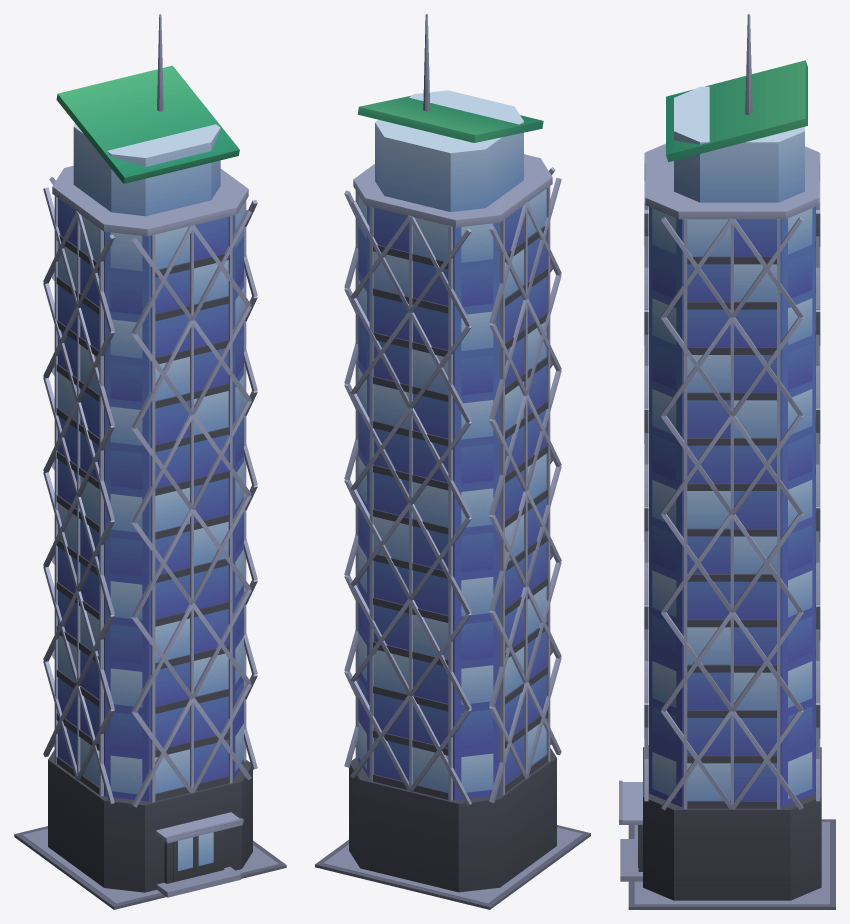
Rendered from off_diagrid_needle_1x1.glb.
3 renders of one model, left to right at view 1: azimuth 30°, elevation 25°; view 2: azimuth 150°, elevation 25°; view 3: azimuth 270°, elevation 25°, orthographic. The views are drawn at different scales.
Parts seen in each view (by area): view 1: off_diagrid_needle_1x1; view 2: off_diagrid_needle_1x1; view 3: off_diagrid_needle_1x1.
Part boxes in pixels (bbox=[...]): off_diagrid_needle_1x1: bbox=[14, 14, 286, 909]; off_diagrid_needle_1x1: bbox=[315, 14, 590, 909]; off_diagrid_needle_1x1: bbox=[619, 14, 835, 909].
Bounding box in the file's own units: 1.7 × 7.79 × 1.78.
1 material, 1 textured.
